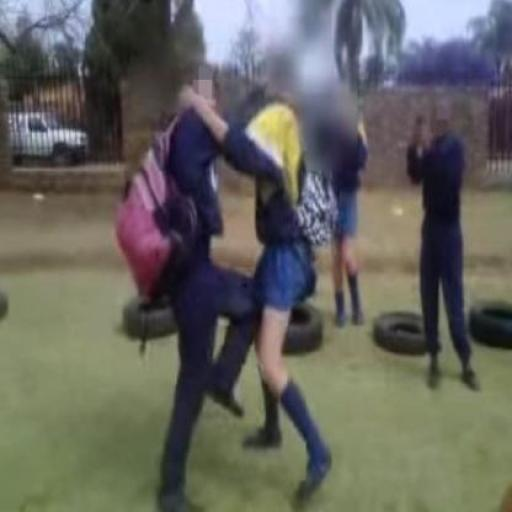Fighting: (112, 79, 330, 512)
